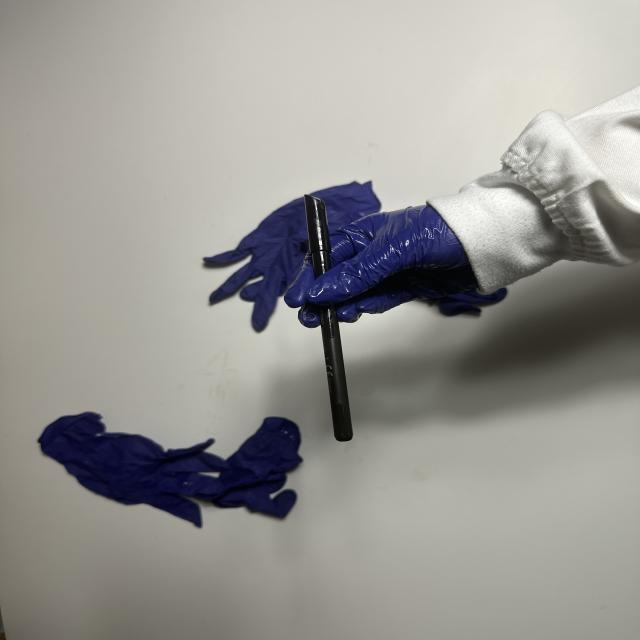gloves_contaminated: (284, 205, 478, 328)
